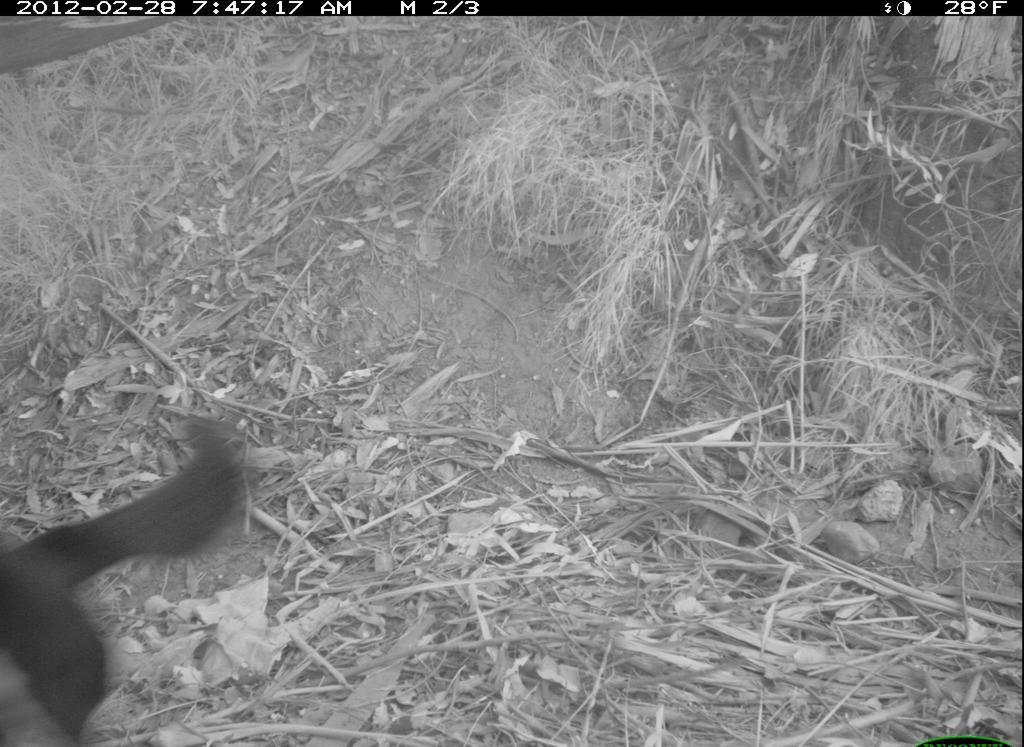dog: (2, 413, 263, 745)
